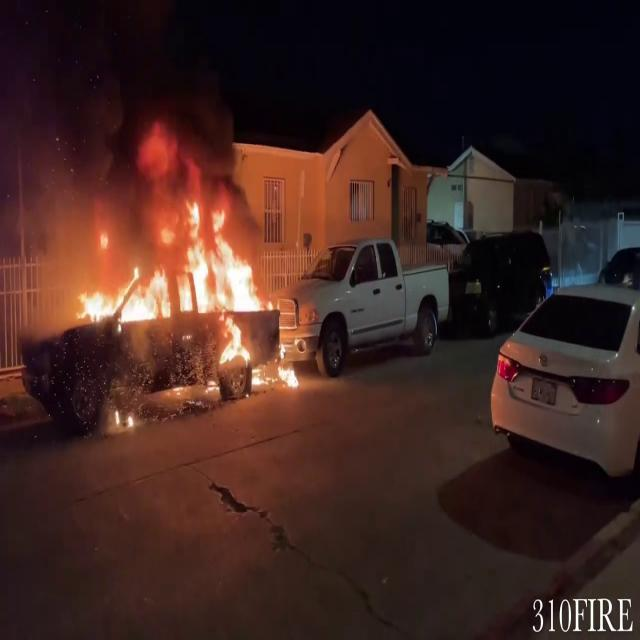Fire: (81, 197, 301, 384)
Smoke: (0, 0, 258, 265)
